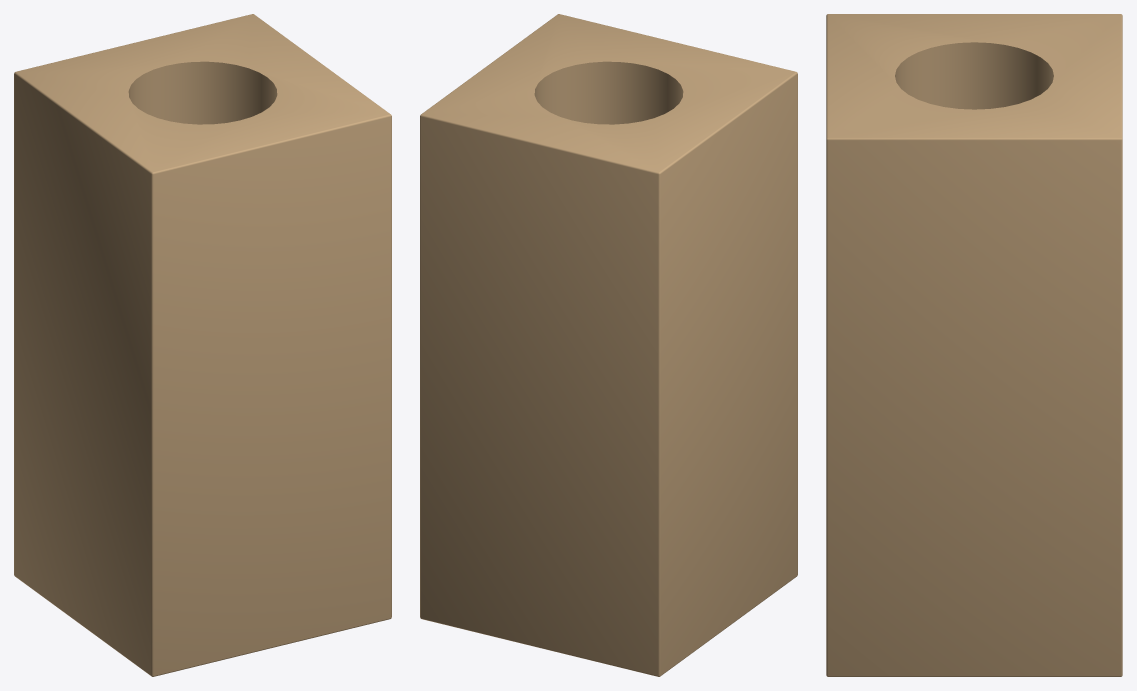
File: blk_pillar_h2.glb
3 renders of one model, left to right at view 1: azimuth 30°, elevation 25°; view 2: azimuth 150°, elevation 25°; view 3: azimuth 270°, elevation 25°, orthographic. The views are drawn at different scales.
Parts seen in each view (by area): view 1: blk_pillar_h2_lod0; view 2: blk_pillar_h2_lod0; view 3: blk_pillar_h2_lod0.
Part boxes in pixels (x1=…): blk_pillar_h2_lod0: x1=14, y1=14, x2=391, y2=676; blk_pillar_h2_lod0: x1=420, y1=14, x2=797, y2=676; blk_pillar_h2_lod0: x1=826, y1=14, x2=1122, y2=676.
Size of what is drawn, in the model's own units: 0.0596 by 0.1196 by 0.0596.
